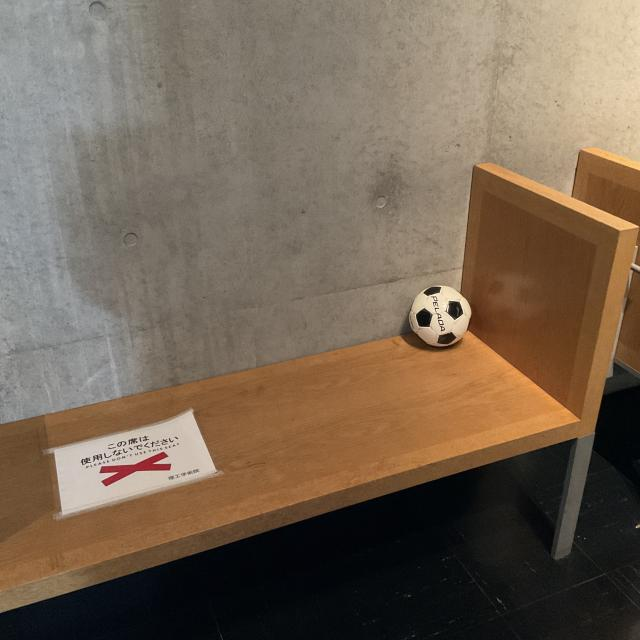ball: (408, 284, 473, 350)
